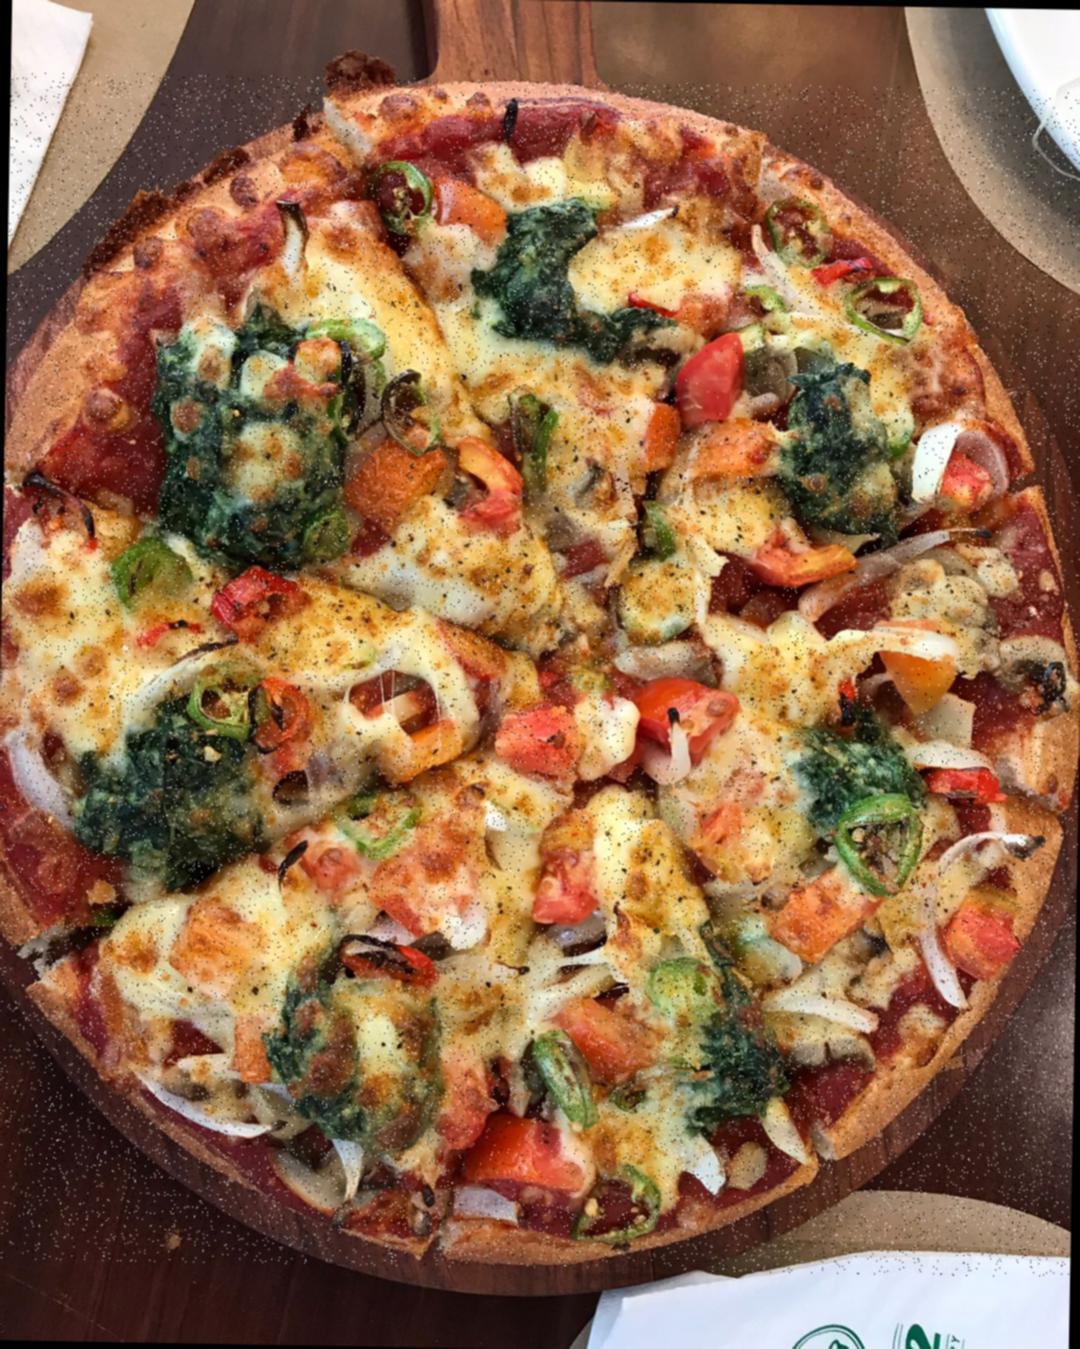Peppers: (760, 855, 890, 974), (341, 669, 477, 774), (341, 420, 454, 537), (465, 1105, 601, 1201), (623, 672, 738, 765), (937, 879, 1025, 993), (554, 992, 661, 1084), (871, 617, 959, 720), (212, 564, 310, 641), (674, 333, 748, 430), (425, 172, 512, 251), (454, 438, 528, 528), (496, 702, 584, 775), (523, 852, 603, 930), (288, 823, 367, 902), (335, 933, 439, 991), (685, 795, 749, 887), (749, 535, 864, 585), (248, 677, 322, 746), (921, 760, 1013, 807)
Pizza: (0, 71, 1080, 1277)
